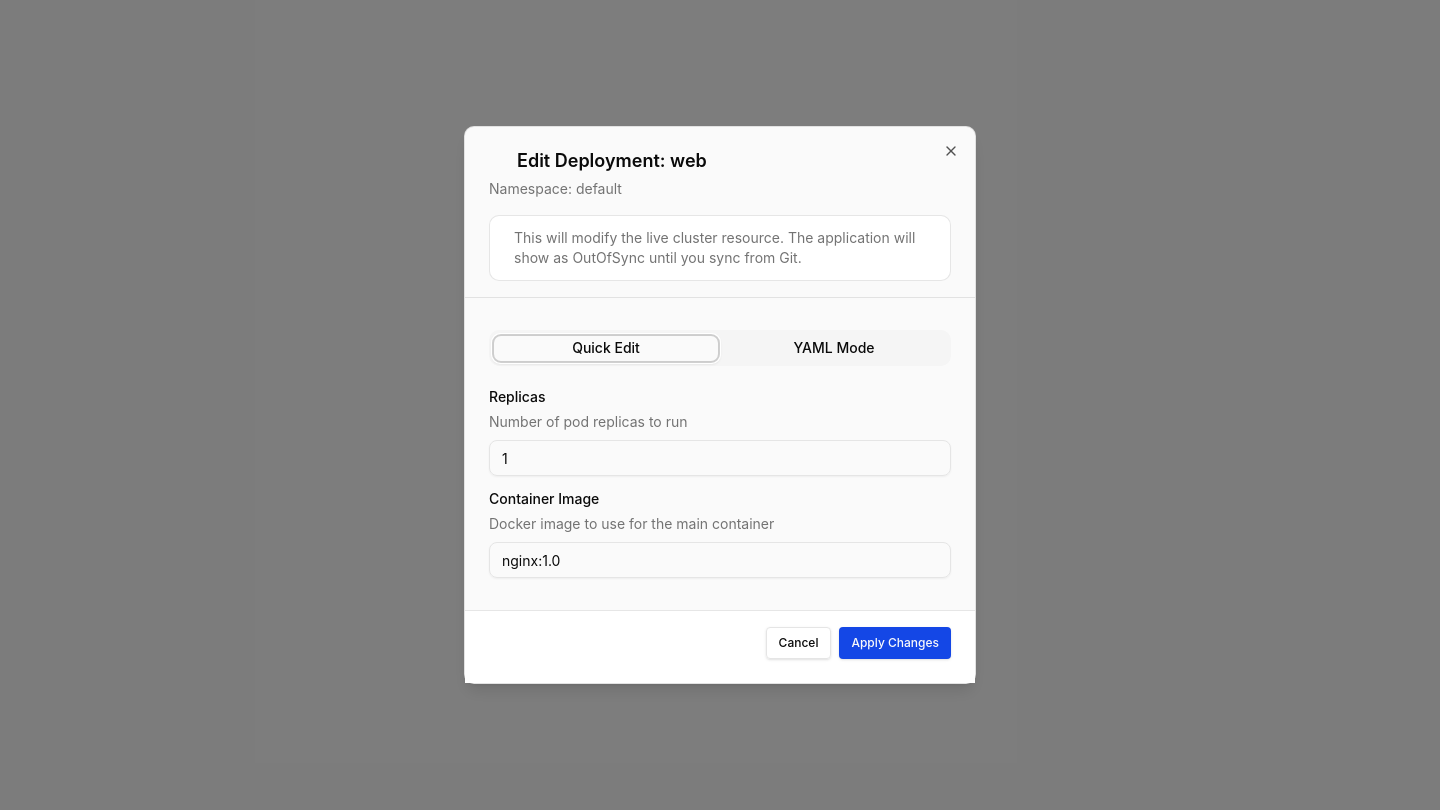
ResourceEditModal safety confirmation › invalidates confirmation whenever the edit mode changes
The width and height of the screenshot is (1440, 810).
Replace the text in the number field labelled "Replicas" with "2" at (720, 458), box top-left (489, 440), bottom-right (951, 476)
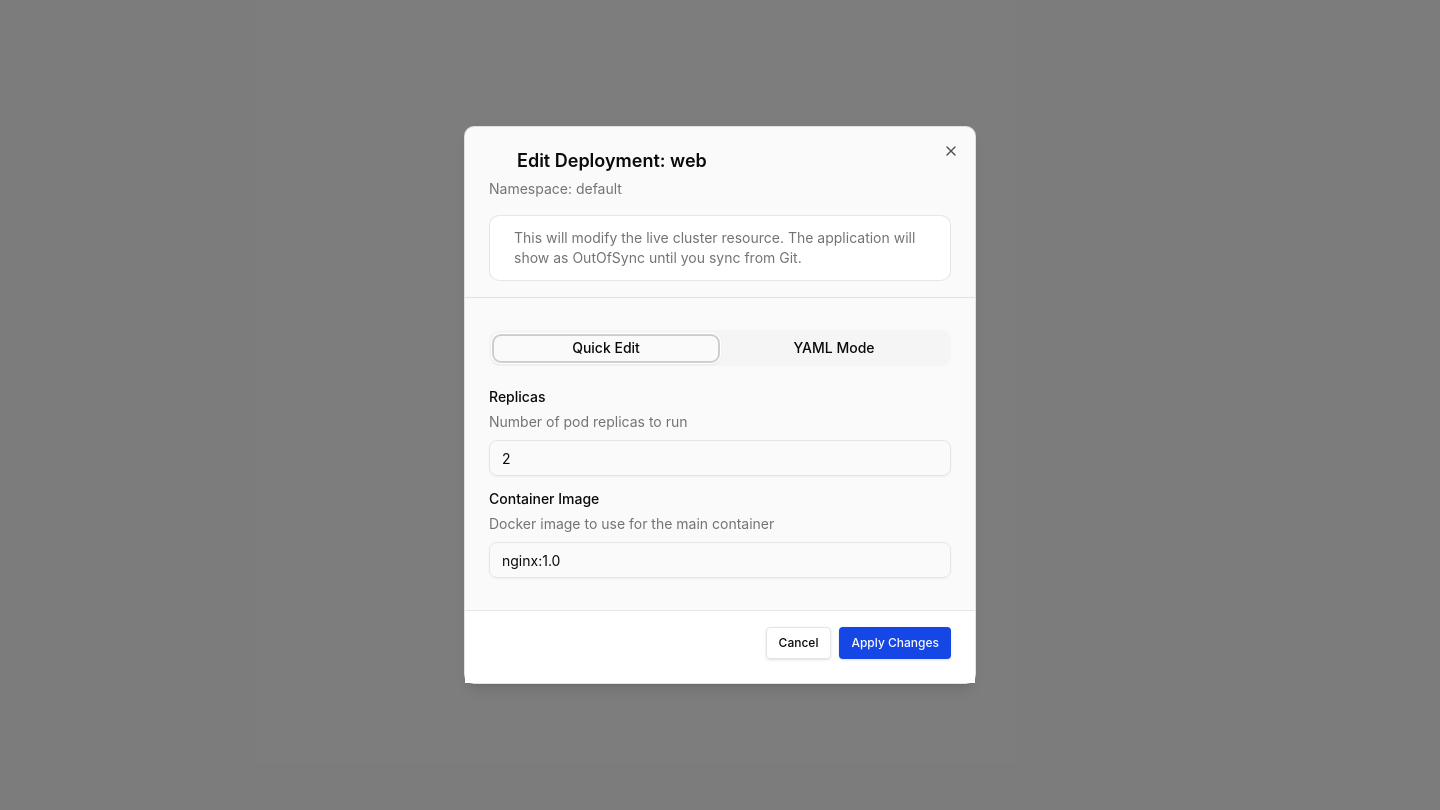
Click the button "Apply Changes".
click(895, 643)  # box top-left (839, 627), bottom-right (951, 659)
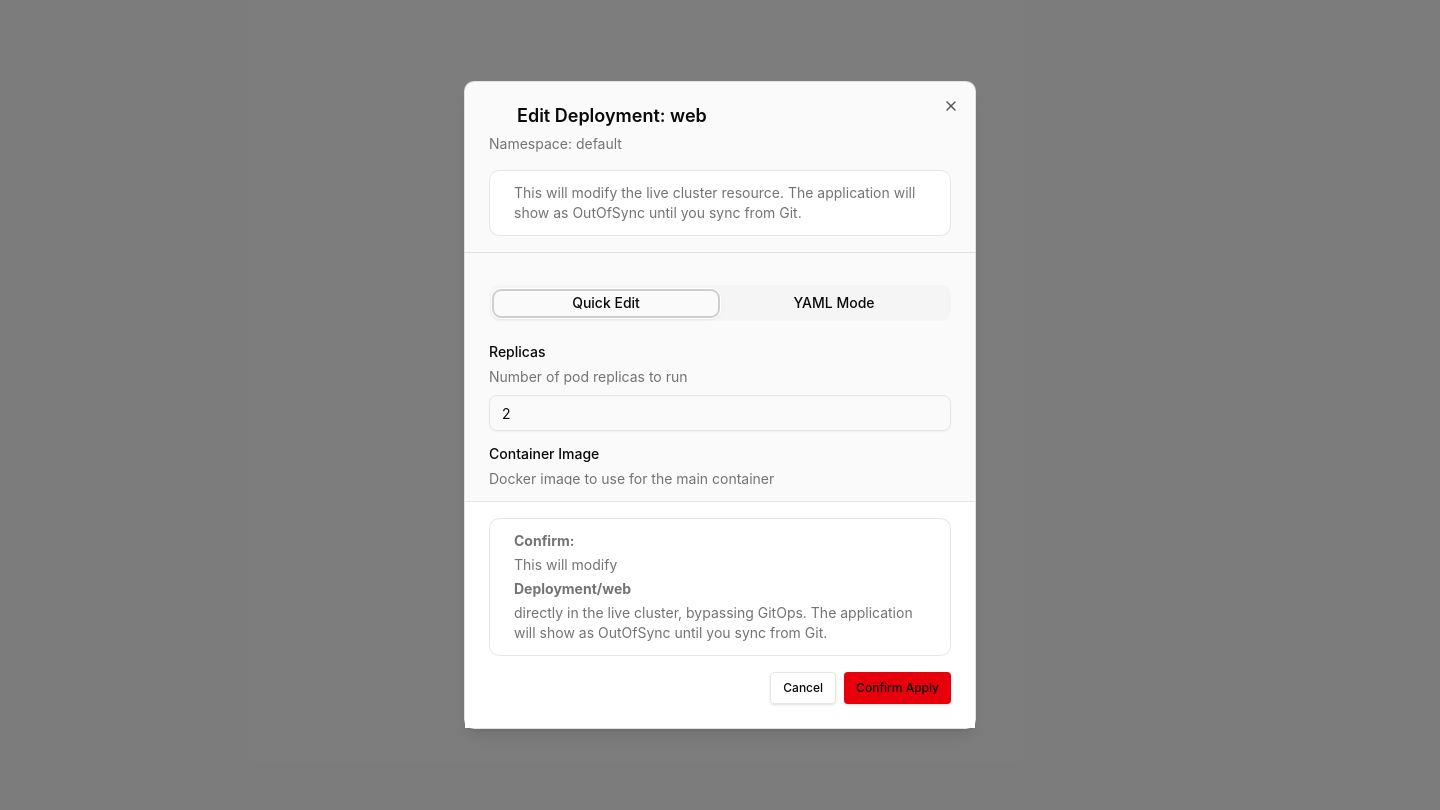
Result: the button "Confirm Apply" is shown at top-left (844, 672), bottom-right (951, 704)
Click the tab "YAML Mode".
click(834, 303)  # box top-left (720, 288), bottom-right (948, 318)
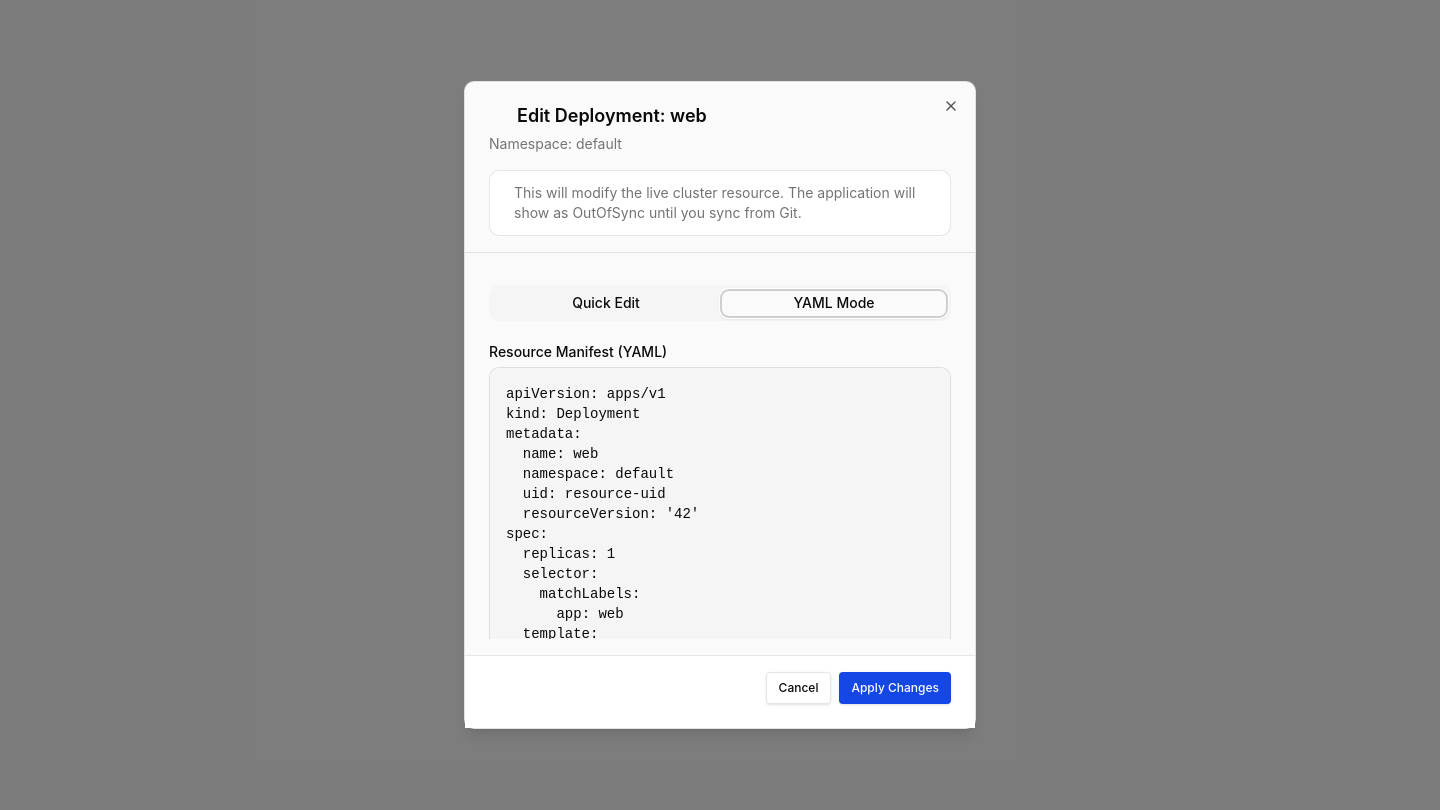
Result: the button "Apply Changes" is shown at top-left (839, 672), bottom-right (951, 704)
Result: the button "Confirm Apply" is gone
Click the tab "Quick Edit".
click(606, 303)  # box top-left (492, 288), bottom-right (720, 318)
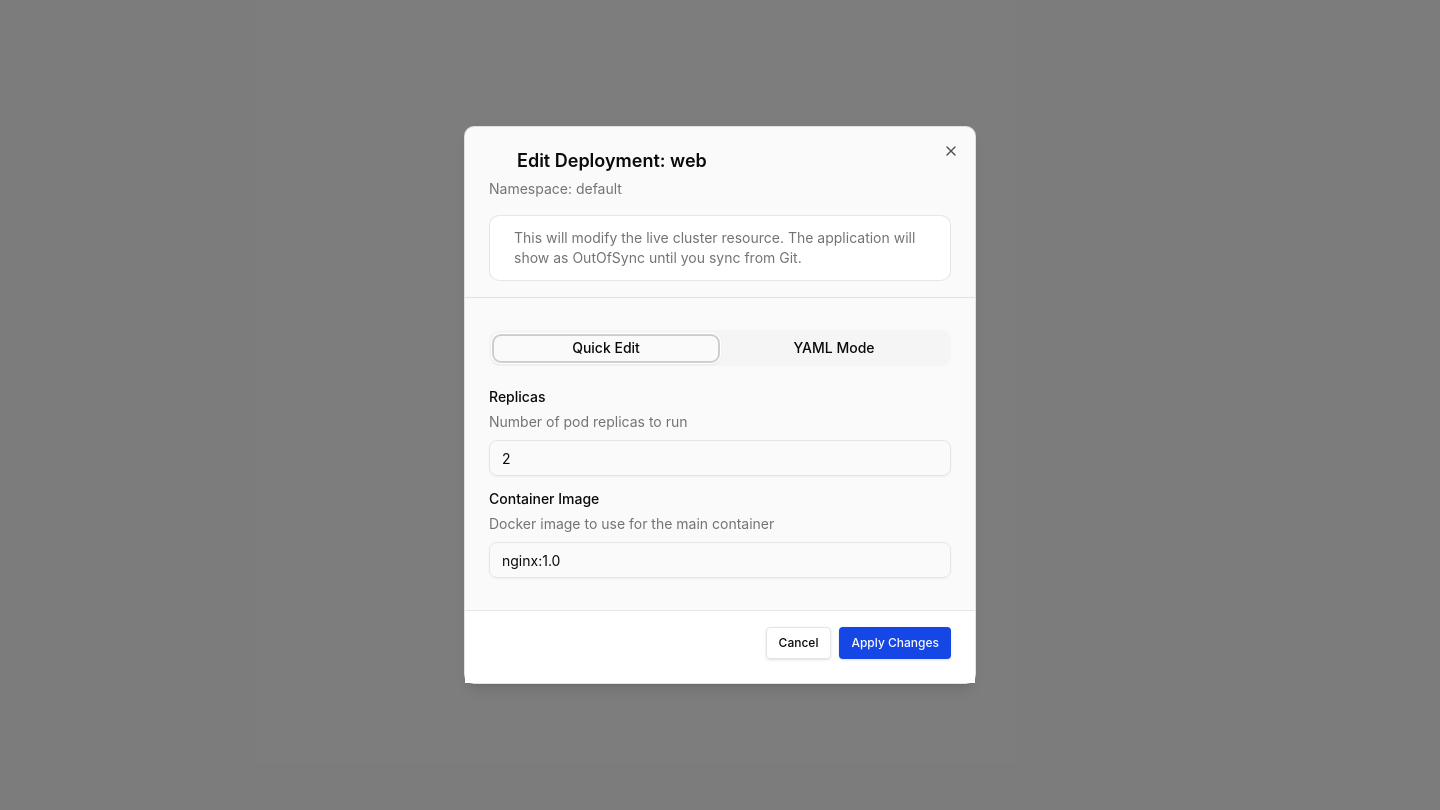
Click the button "Apply Changes".
click(895, 643)  # box top-left (839, 627), bottom-right (951, 659)
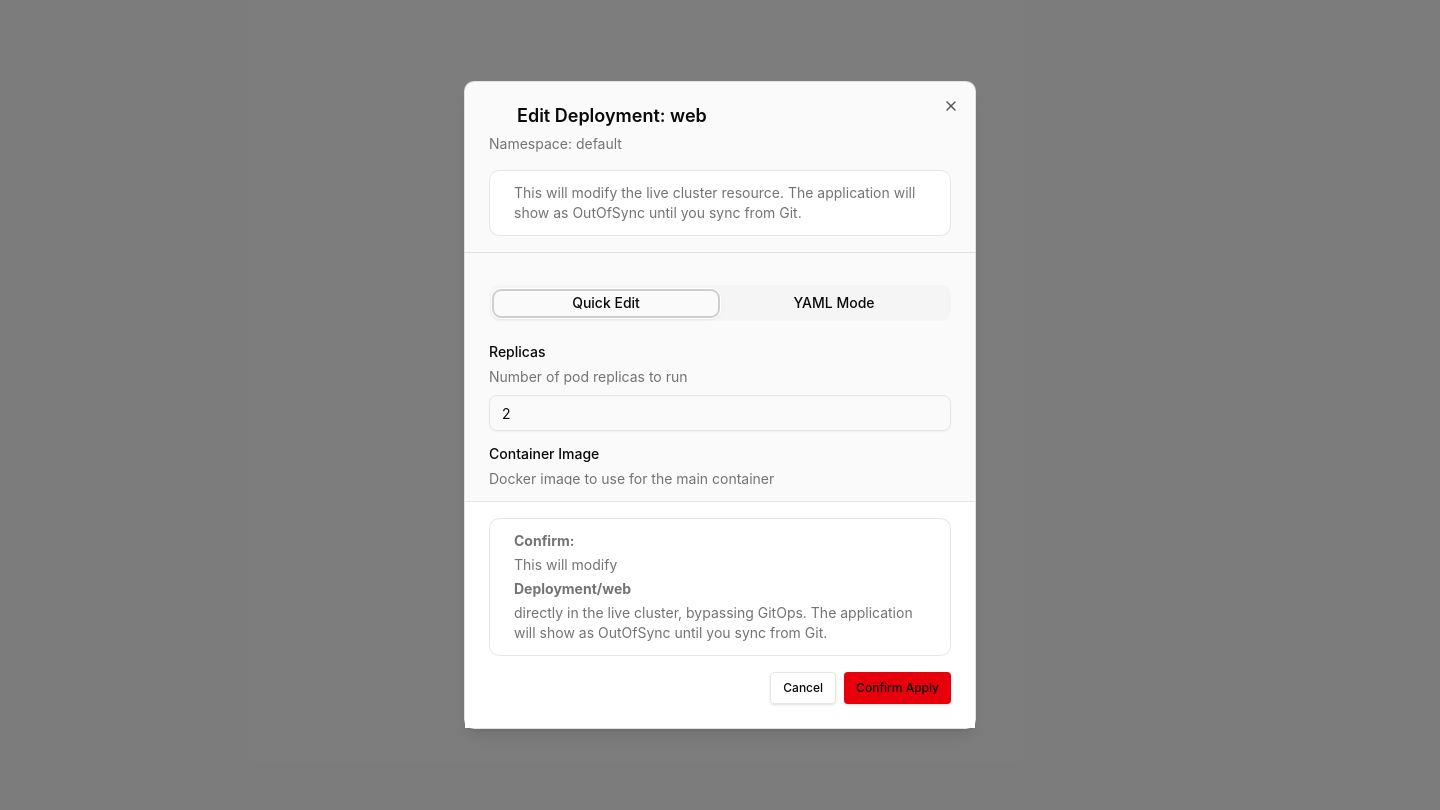
Result: the button "Confirm Apply" is shown at top-left (844, 672), bottom-right (951, 704)
